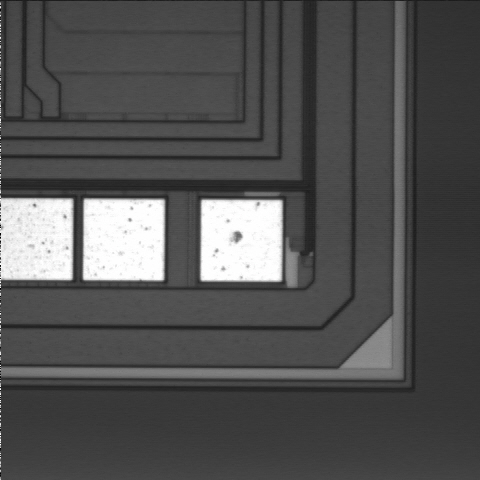pad: (83, 199, 165, 281), (201, 200, 282, 282)
